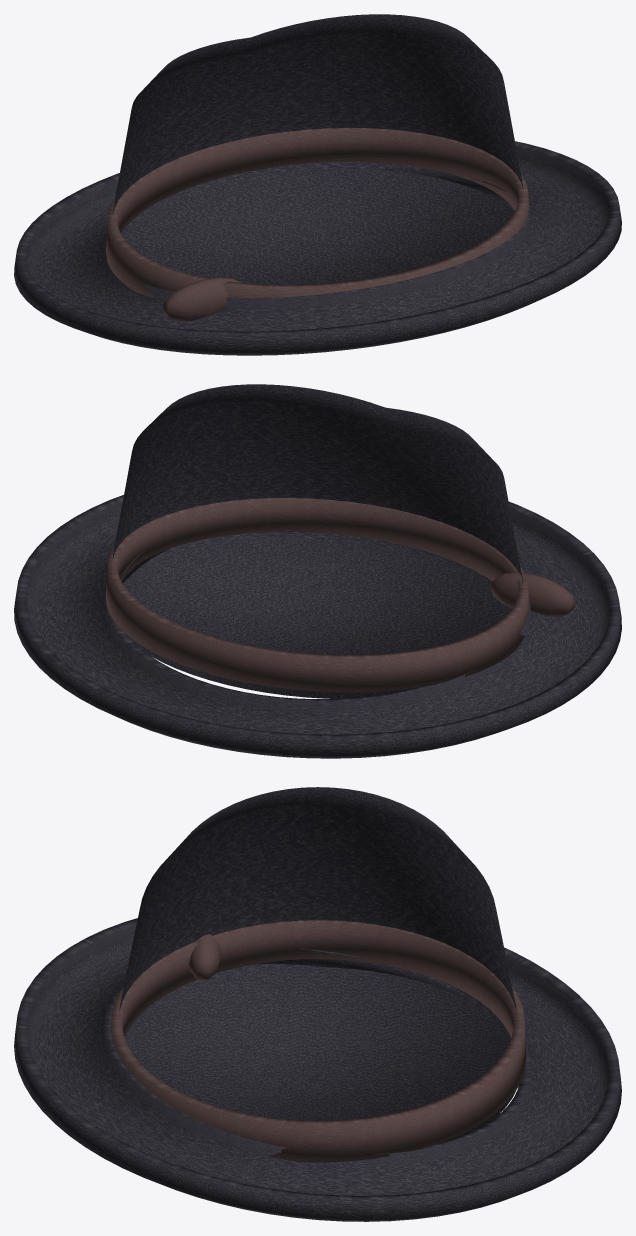
The model's file is jazz-fedora.glb.
3 renders of one model, top to bottom at view 1: azimuth 30°, elevation 25°; view 2: azimuth 150°, elevation 25°; view 3: azimuth 270°, elevation 25°, orthographic. The views are drawn at different scales.
Visible parts, largest first — view 1: jazz-fedora; view 2: jazz-fedora; view 3: jazz-fedora.
Boxes of the visible parts, x1,y1,x2,y2 form: jazz-fedora: [14, 14, 621, 355]; jazz-fedora: [14, 384, 621, 758]; jazz-fedora: [14, 787, 621, 1221].
Bounding box in the file's own units: 1.63 × 0.6027 × 1.4.
Materials: 2 (2 with a texture image).
